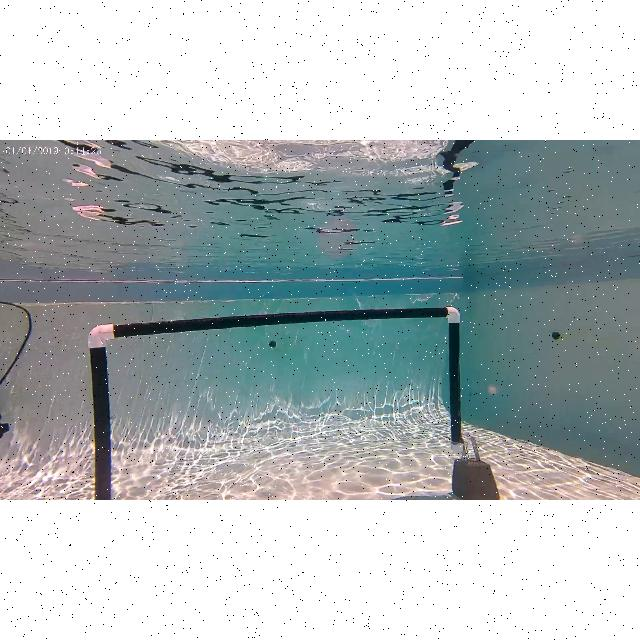prequal gate: (88, 304, 462, 500)
prequal gate leg l: (82, 324, 126, 500)
prequal gate leg r: (441, 304, 504, 500)
